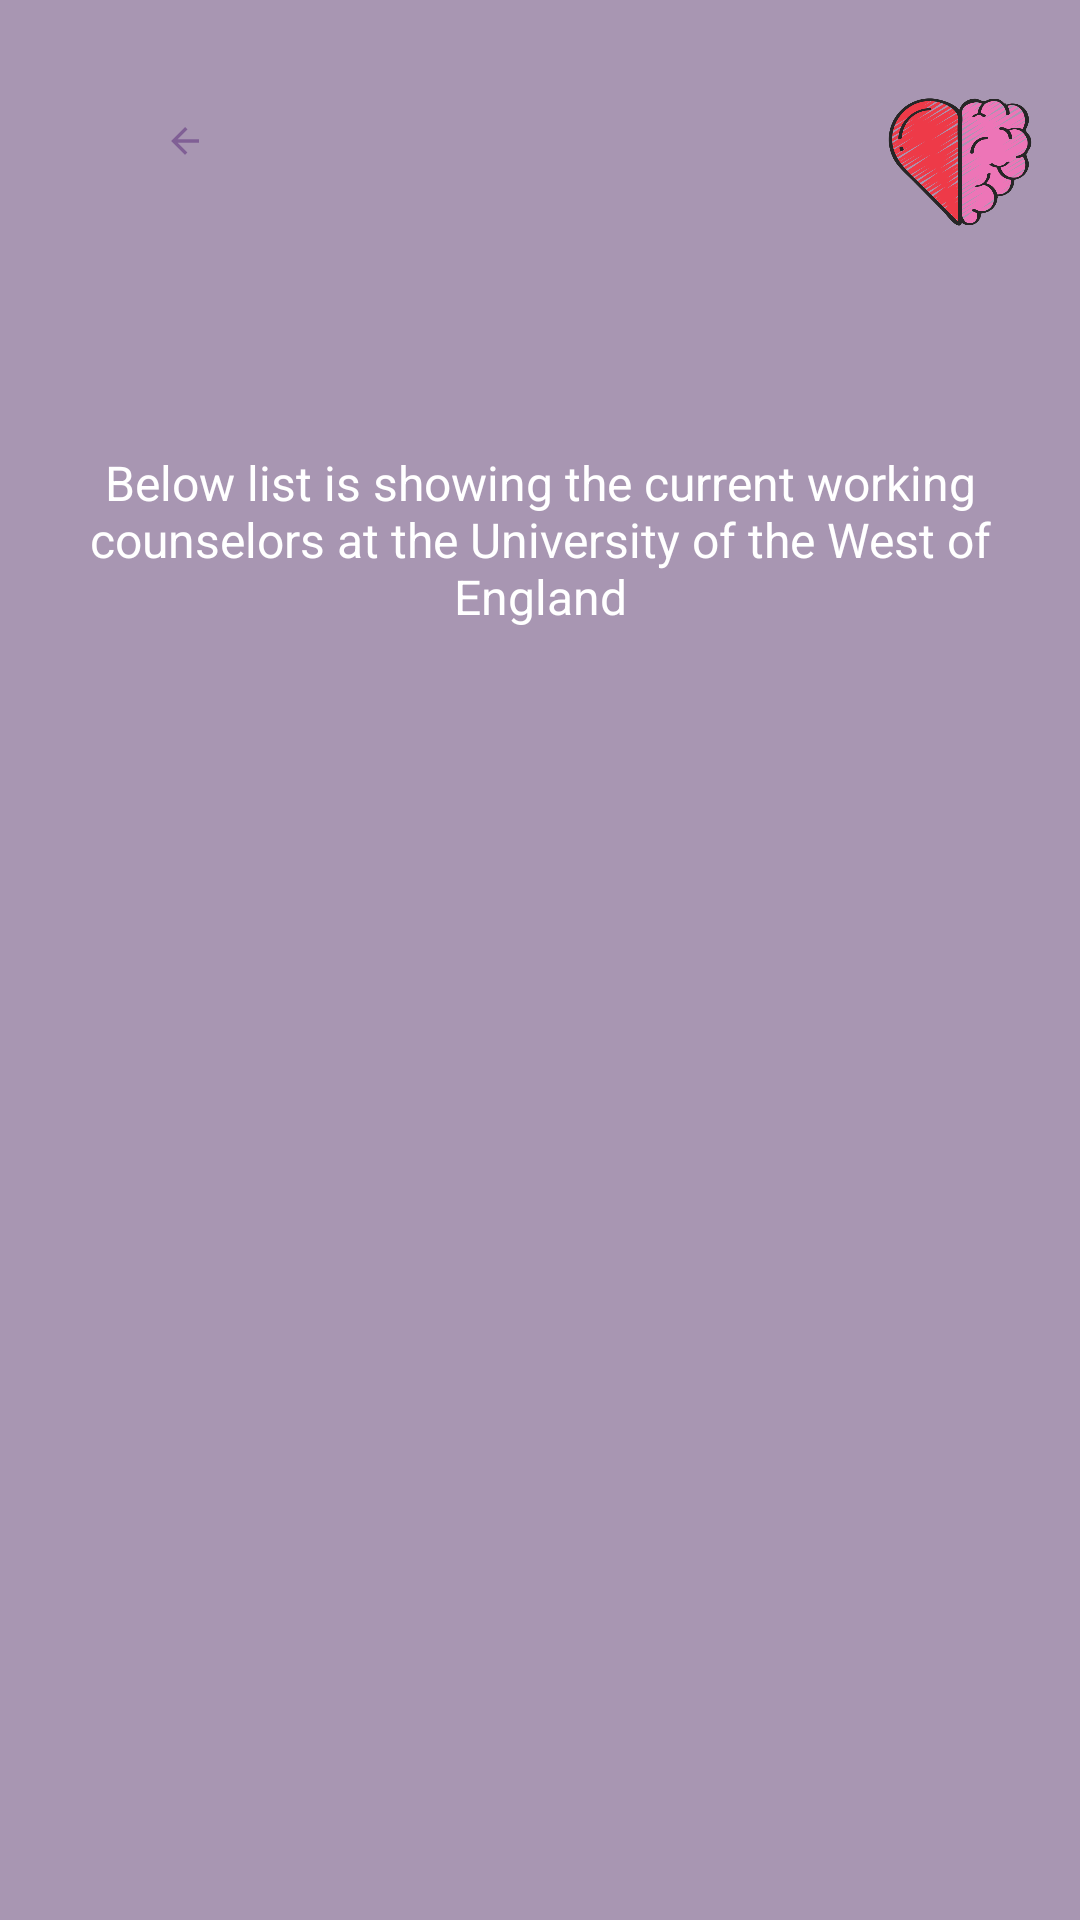

Named icons in this screenshot (1080 x 1920) and their centers, point (x, y):
back: point (185, 140)
Heart Icon: point (960, 162)
